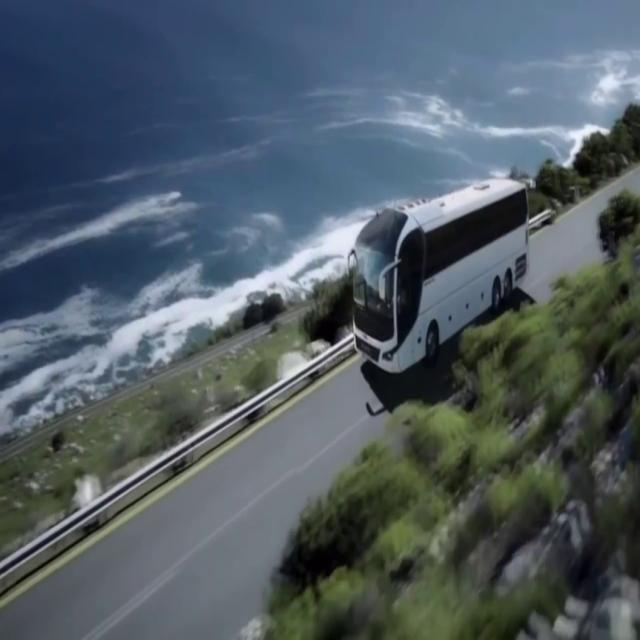bus: (347, 172, 532, 372)
